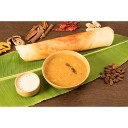dosa: (16, 30, 114, 59)
